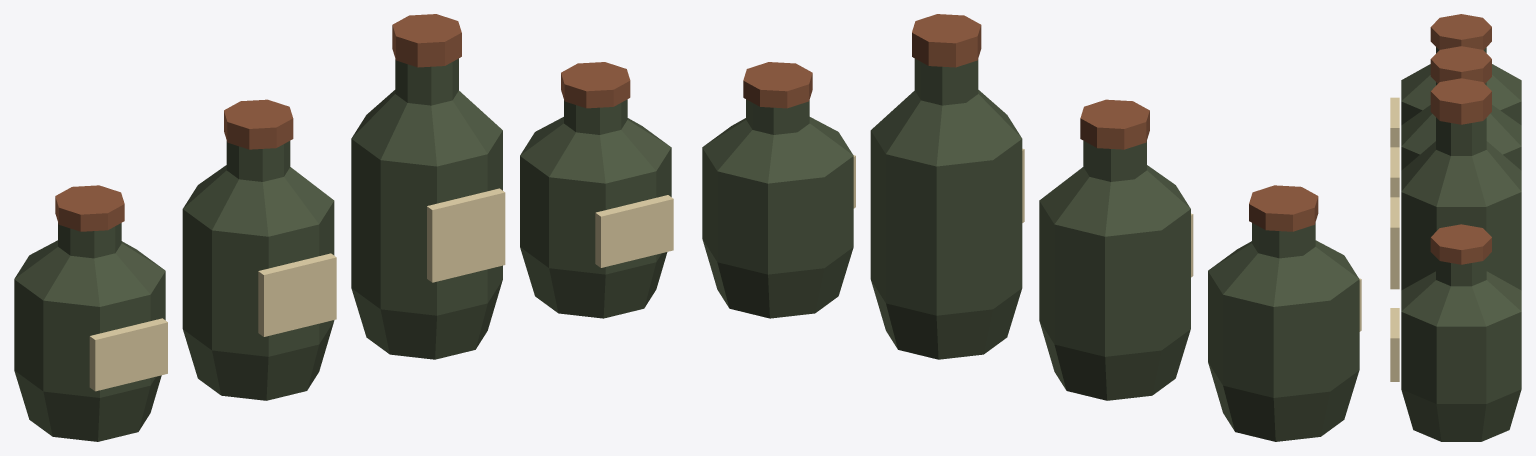
File: bottles_01.glb
The picture shows the model from 3 angles, left to right: view 1: azimuth 30°, elevation 25°; view 2: azimuth 150°, elevation 25°; view 3: azimuth 270°, elevation 25°; orthographic projection. The views are drawn at different scales.
Visible parts, largest first — view 1: N_02_Bottle, N_01_Bottle, N_00_Bottle, N_03_Bottle, N_02_Label, N_01_Label, N_03_Label, N_00_Label, N_02_Cork, N_01_Cork, N_00_Cork, N_03_Cork; view 2: N_02_Bottle, N_01_Bottle, N_00_Bottle, N_03_Bottle, N_02_Cork, N_01_Cork, N_00_Cork, N_03_Cork; view 3: N_03_Bottle, N_02_Bottle, N_01_Bottle, N_00_Bottle, N_02_Cork, N_03_Cork, N_01_Cork, N_00_Cork, N_02_Label, N_03_Label, N_00_Label, N_01_Label.
Boxes of the visible parts, x1,y1,x2,y2 form: N_02_Bottle: (351,58,502,359); N_01_Bottle: (182,141,334,400); N_00_Bottle: (14,223,165,441); N_03_Bottle: (520,99,671,318); N_02_Label: (427,188,505,282); N_01_Label: (258,253,336,336); N_03_Label: (595,195,673,267); N_00_Label: (89,318,167,391); N_02_Cork: (392,14,461,67); N_01_Cork: (224,99,293,149); N_00_Cork: (55,185,124,231); N_03_Cork: (561,62,630,108); N_02_Bottle: (870,58,1022,359); N_01_Bottle: (1039,140,1190,400); N_00_Bottle: (1208,223,1359,441); N_03_Bottle: (702,99,853,318); N_02_Cork: (912,14,981,67); N_01_Cork: (1080,99,1149,149); N_00_Cork: (1249,185,1318,231); N_03_Cork: (743,62,812,108); N_03_Bottle: (1401,257,1521,441); N_02_Bottle: (1401,117,1521,290); N_01_Bottle: (1401,82,1521,170); N_00_Bottle: (1401,47,1521,125); N_02_Cork: (1430,78,1491,124); N_03_Cork: (1430,224,1491,264); N_01_Cork: (1430,46,1491,83); N_00_Cork: (1430,14,1491,49); N_02_Label: (1390,197,1399,289); N_03_Label: (1390,308,1399,381); N_00_Label: (1390,97,1399,147); N_01_Label: (1390,147,1399,197).
Size of the model in its own units: 0.5216 by 0.2424 by 0.1108.
